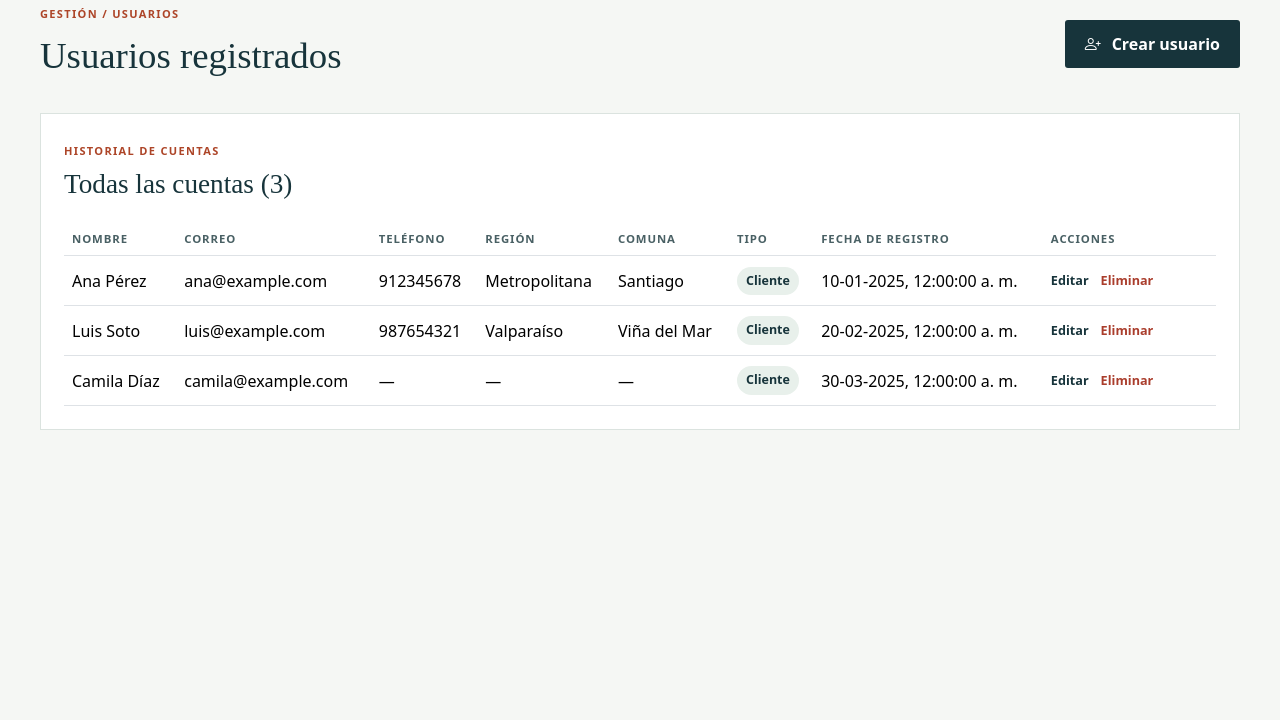
Test case: AdminUsersPage › crea usuarios con contraseña y rol seleccionados
expect the text "ana@example.com" is shown: met, box [176,256,371,306]
Click the button "Crear usuario" at (1152, 44), box [1065,20,1240,68]
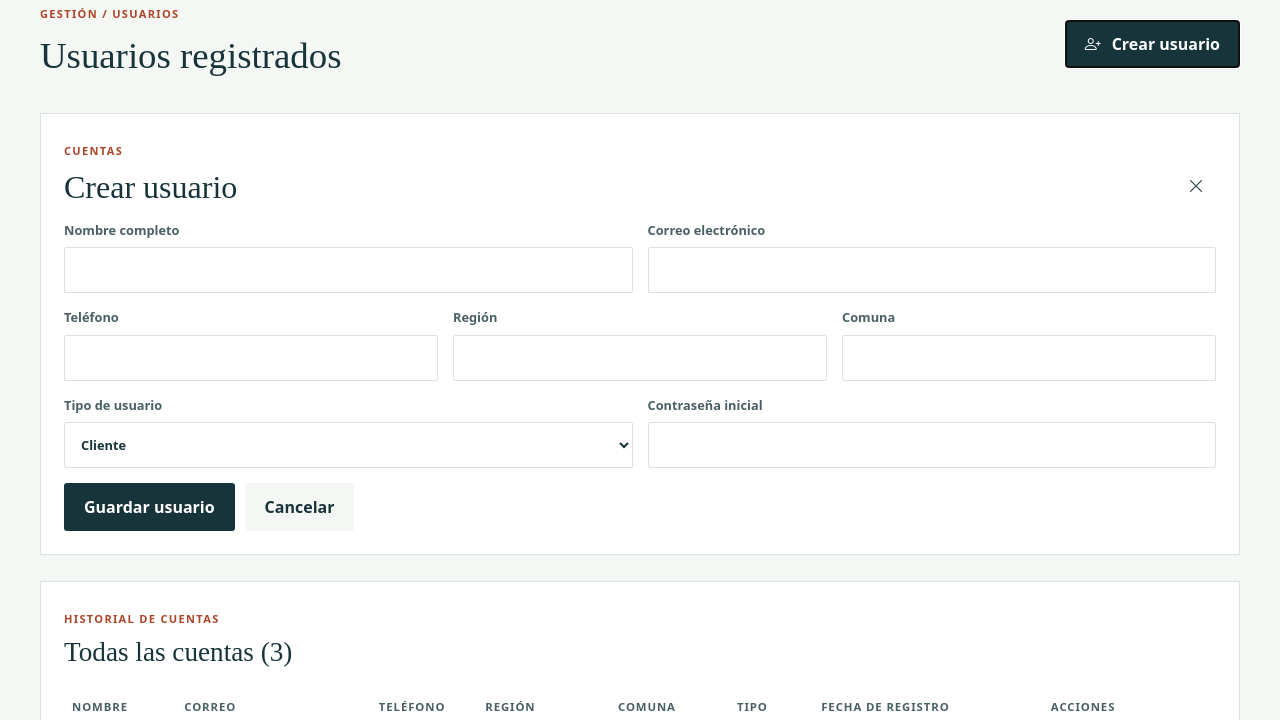
Type "Sofía" into the field labelled "Nombre completo" at (348, 270), box [64,247,632,293]
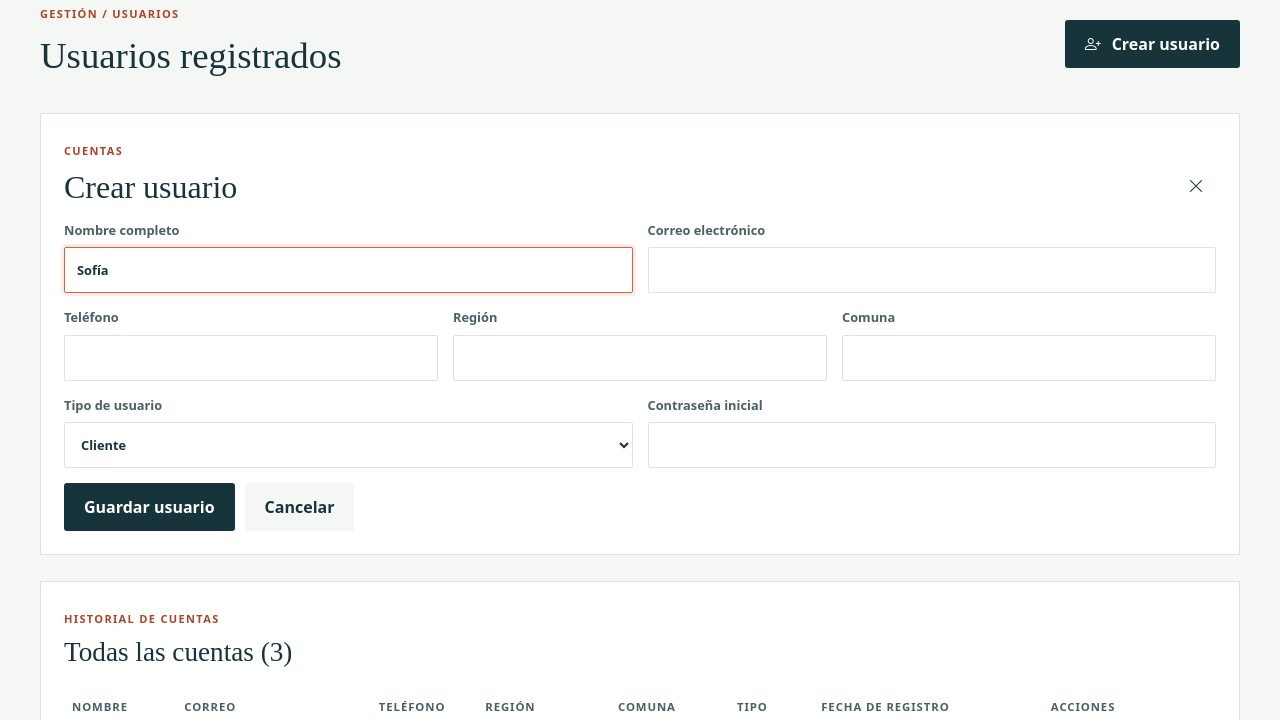
Type "sofia@example.com" into the field labelled "Correo electrónico" at (932, 270), box [648,247,1216,293]
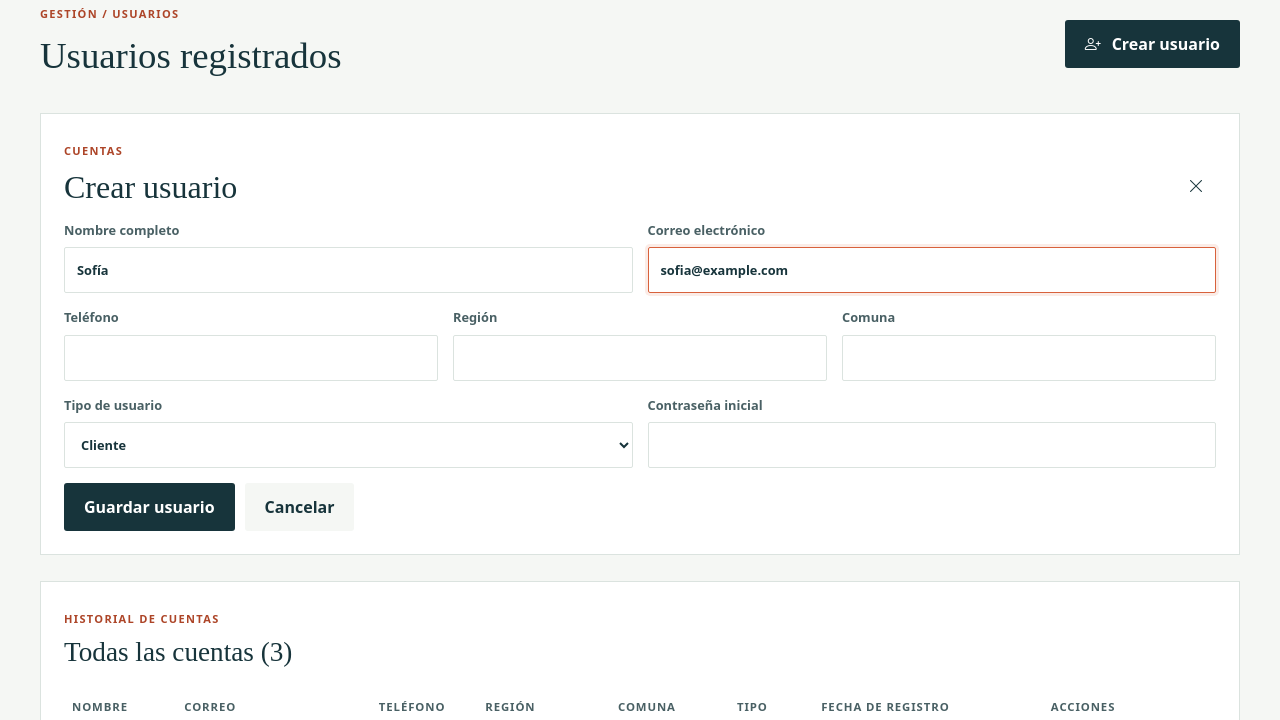
Type "clave-segura" into the password field labelled "Contraseña inicial" at (932, 445), box [648,422,1216,468]
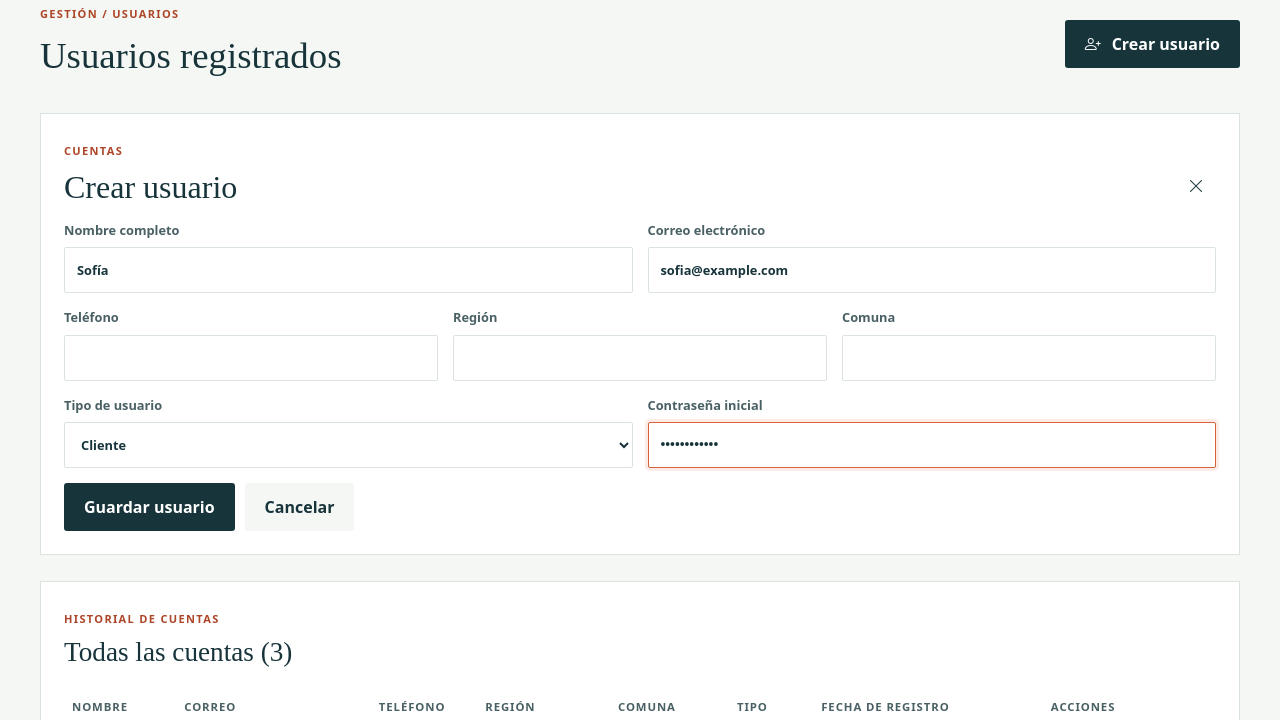
Select "Vendedor" in the dropdown labelled "Tipo de usuario" at (348, 445), box [64,422,632,468]
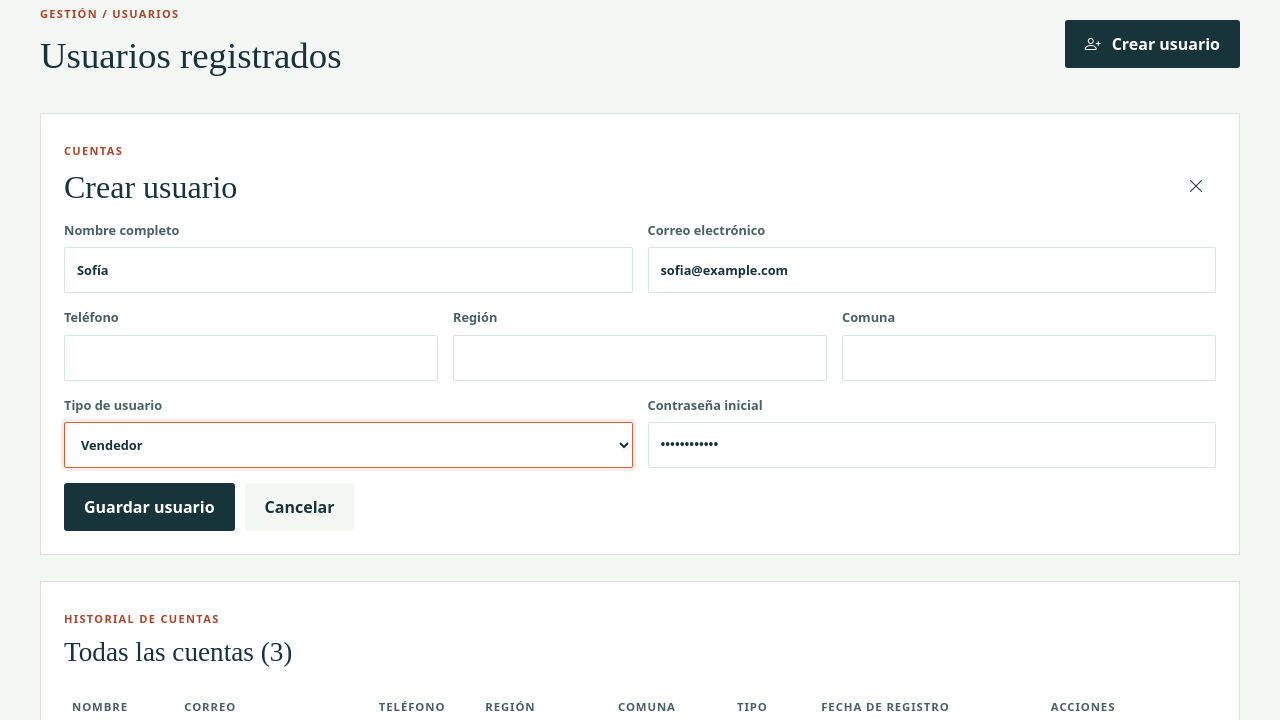
Click the button "Guardar usuario" at (149, 507), box [64,483,235,531]
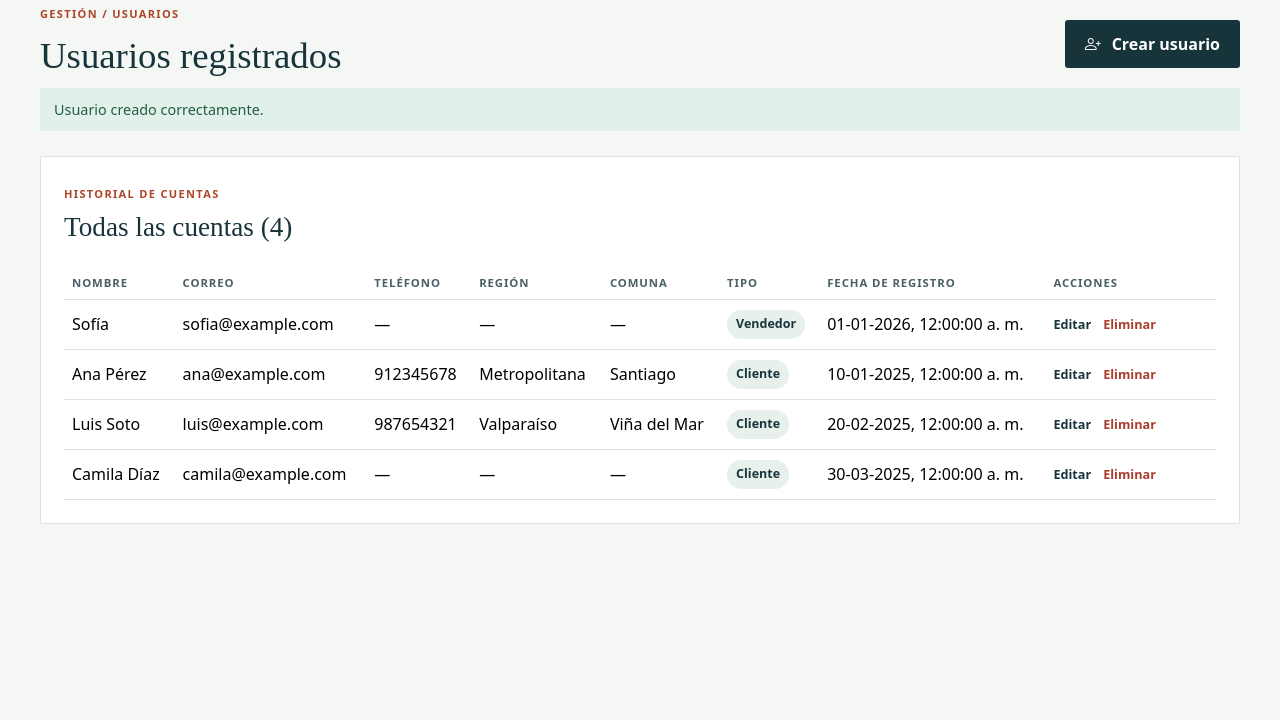
expect the text "sofia@example.com" is shown: met, box [175,300,366,350]
